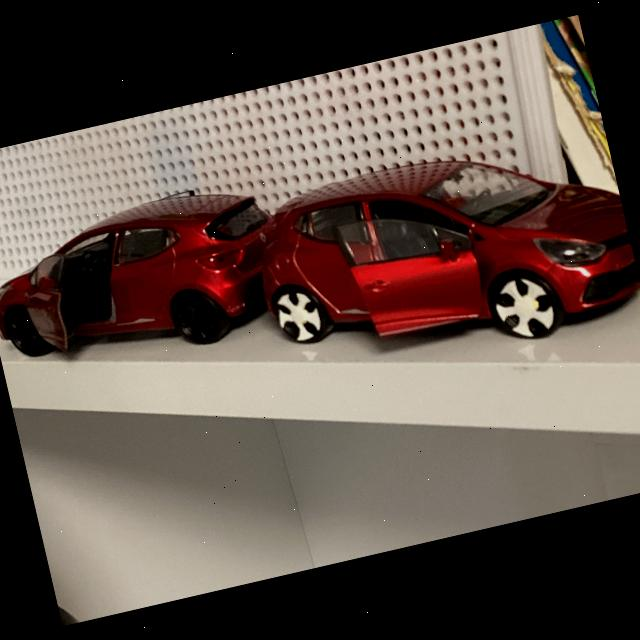Dogru_Jant: (4, 307, 47, 358), (176, 294, 219, 343)
Yanlis_Jant: (489, 270, 558, 344), (272, 285, 325, 345)
